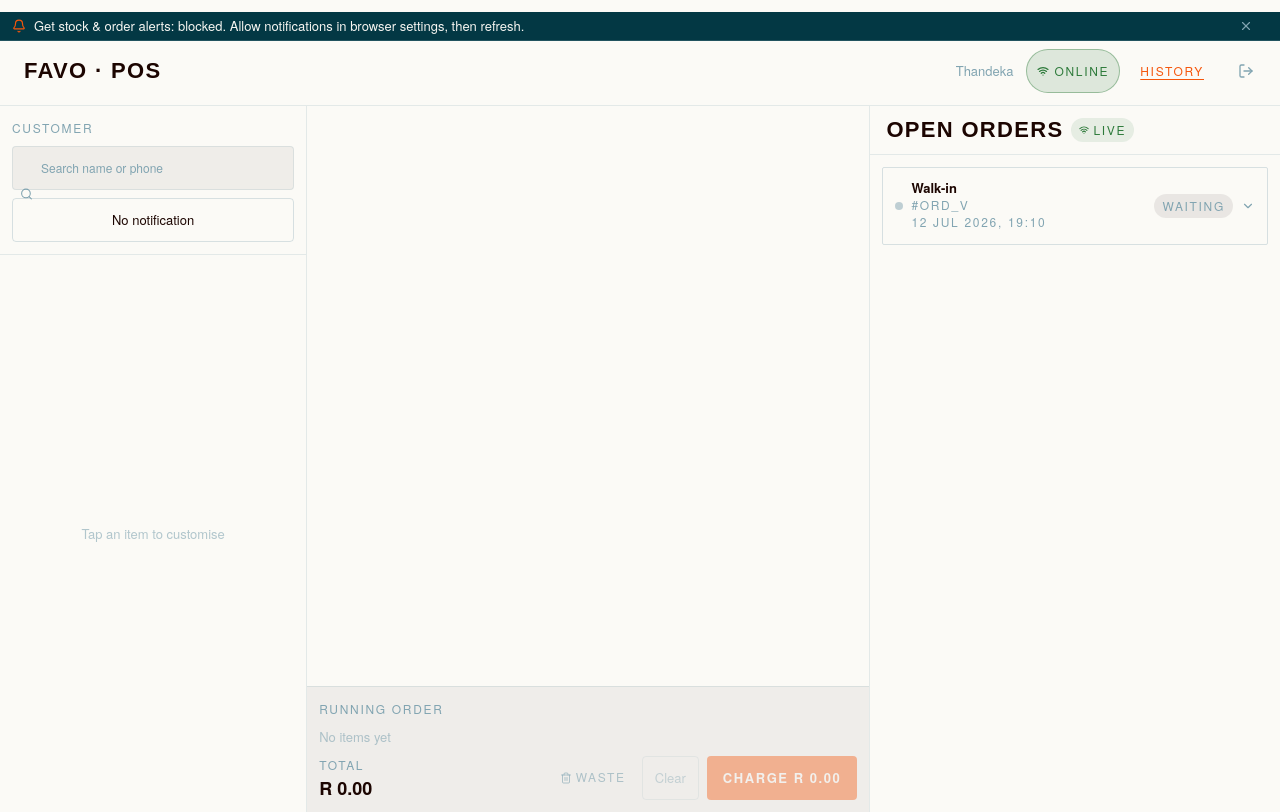
Test: the queue's order panel shows 'Voucher' on vouchered units › a placed line carrying vouchers reads Voucher, not Free cup
Click the text "Walk-in" at (940,196), box [911, 178, 970, 213]
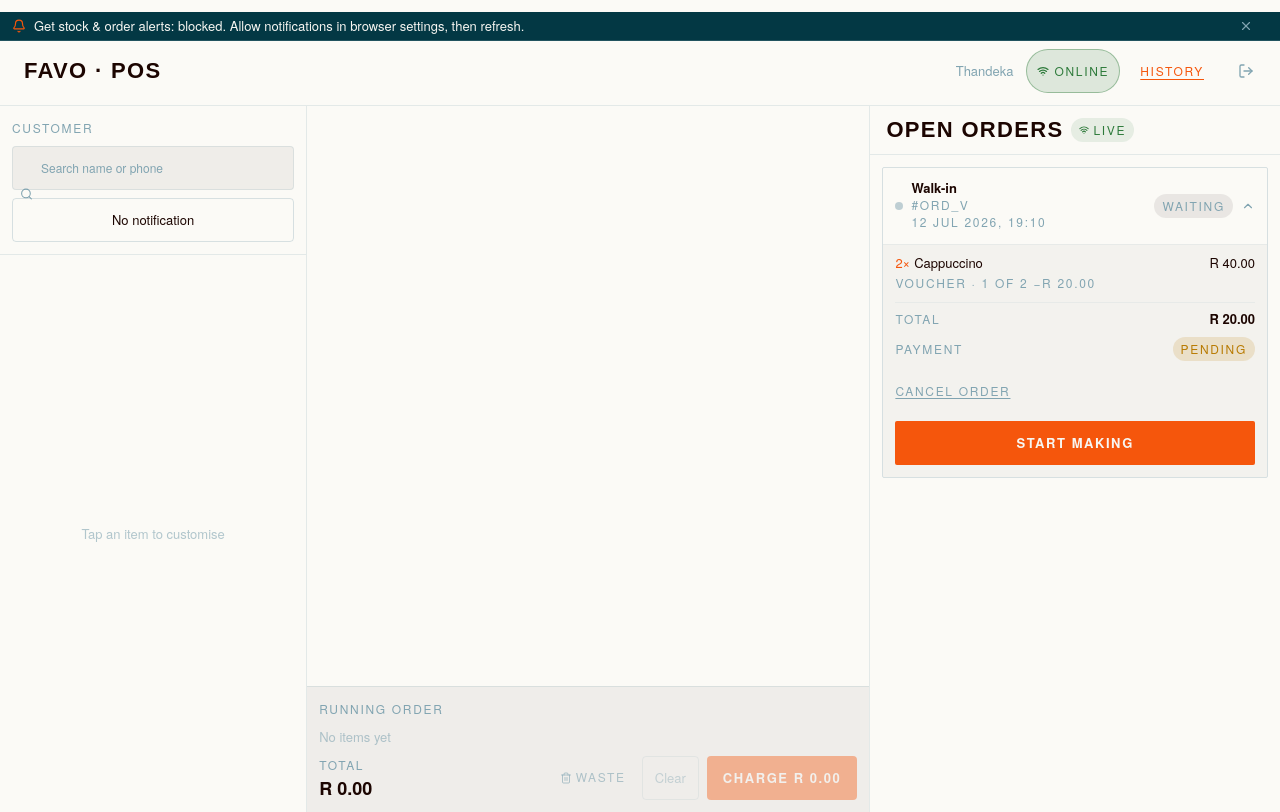
Now the text "Voucher · 1 of 2 −R 20.00" is shown, box [895, 273, 1096, 294]
